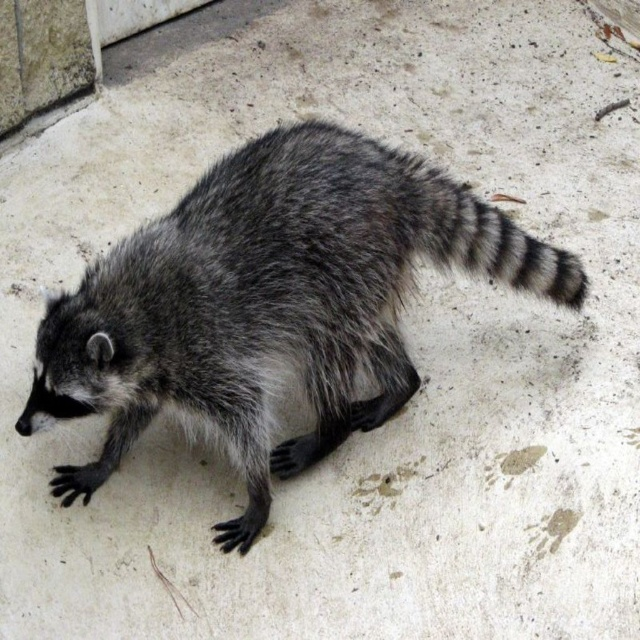Raccoon: (14, 119, 588, 554)
